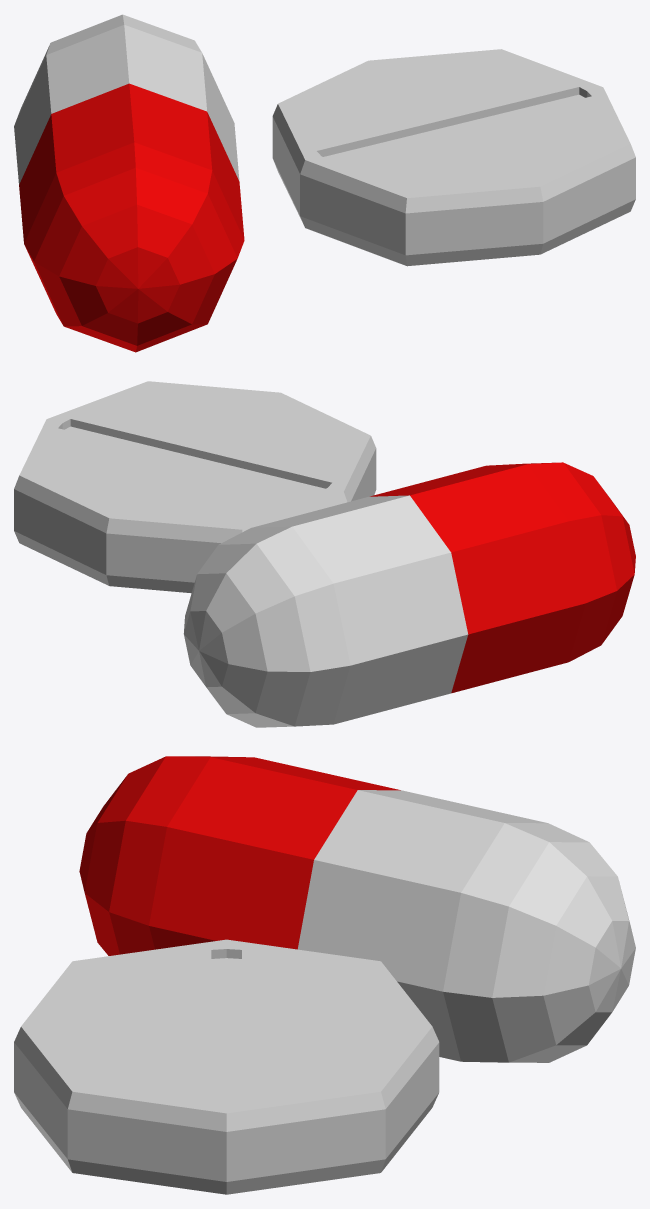
File: pills.fbx
3 views of the same model, one above another, from view 1: azimuth 30°, elevation 25°; view 2: azimuth 150°, elevation 25°; view 3: azimuth 270°, elevation 25° (orthographic). The views are drawn at different scales.
Visible parts, largest first — view 1: polySurface2; view 2: polySurface2; view 3: polySurface2.
Part boxes in pixels (x1,y1,x2,y2): polySurface2: (14, 14, 635, 352); polySurface2: (14, 381, 635, 727); polySurface2: (14, 756, 635, 1194).
Bounding box in the file's own units: 4.35 × 1.44 × 3.41.
